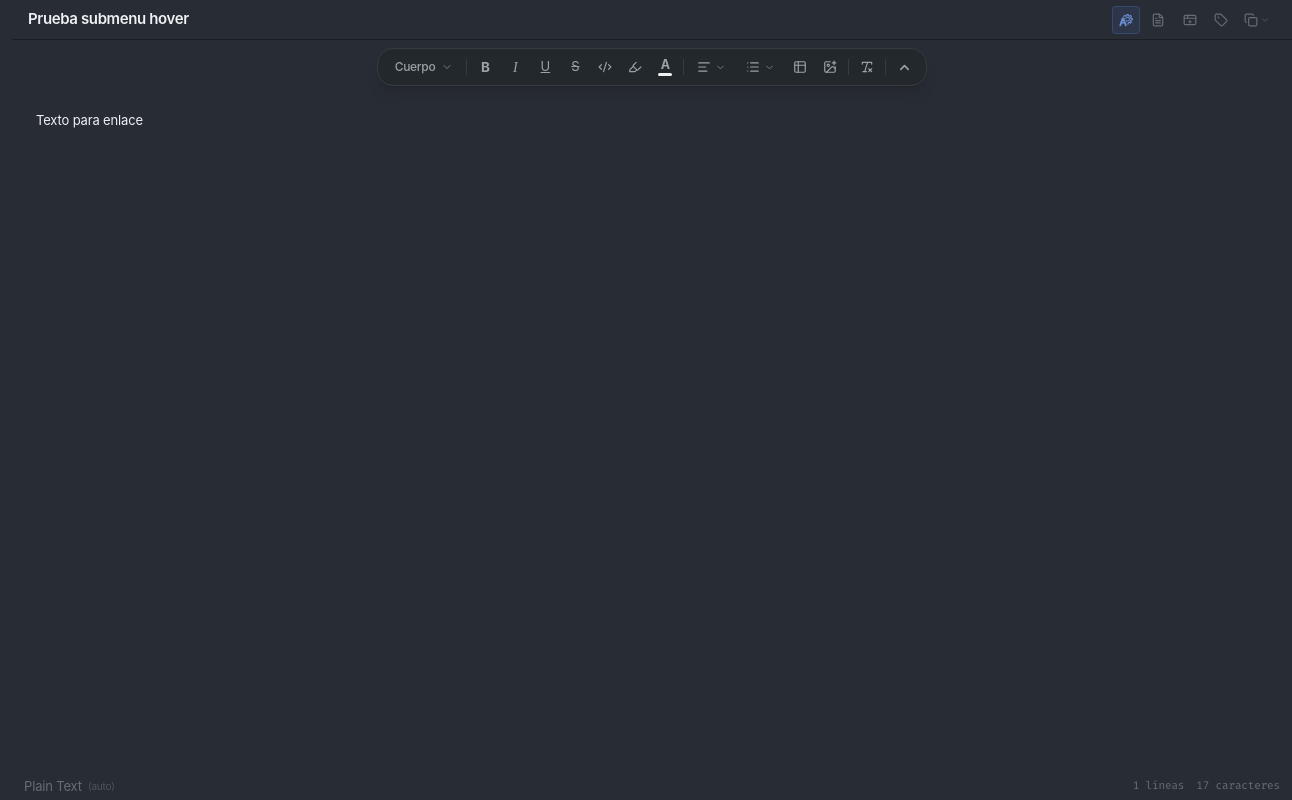
SnippetEditor Dual-Mode (Plain Text Rich Engine & Dynamic Pill Bar) › auto-hides right-click submenus such as Insertar o editar enlace when the mouse leaves
This screenshot has width=1292, height=800.
Select text and right-click
Press a in the field labelled "Texto para enlace", box 36,112 -> 143,128
Right-click the field labelled "Texto para enlace".
right_click(89, 120)  # box 36,112 -> 143,128
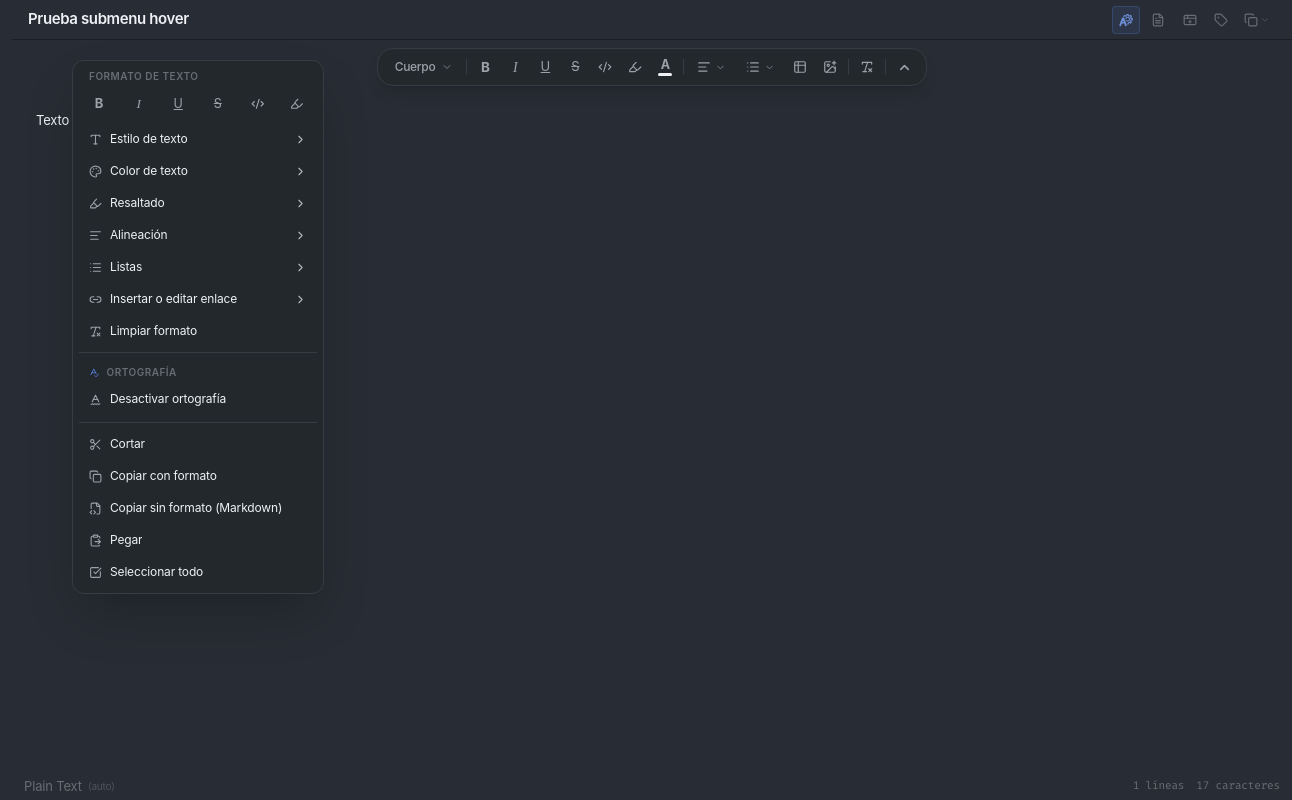
Hovering "Insertar o editar enlace" opens its submenu automatically
Hover over the button with test id "context-submenu-link".
mouse_move(198, 299)  # box 79,284 -> 317,314
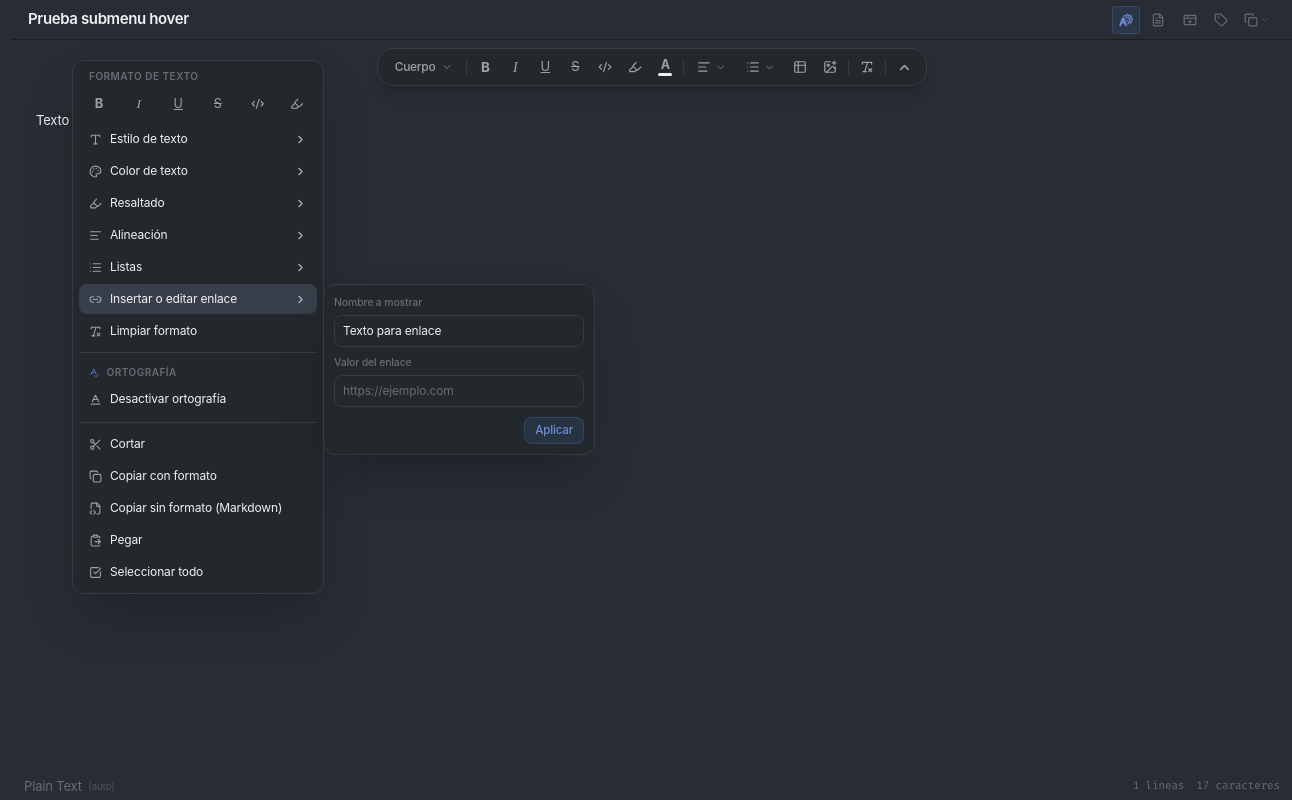
Now the element with test id "context-link-submenu" is shown, box 323,284 -> 595,455
Moving mouse away hides the submenu automatically
Move the pointer off the element that starts with "Insertar o editar enlace", box 79,284 -> 317,314
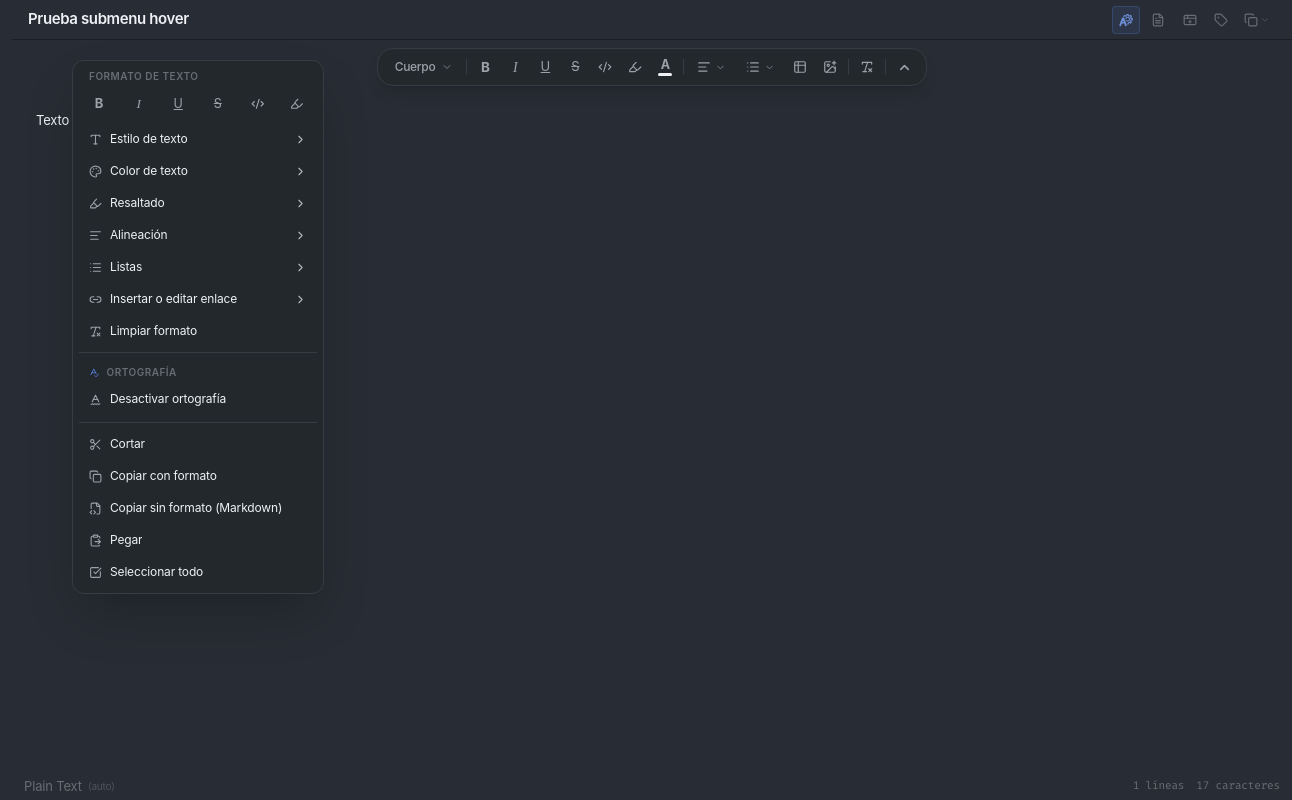
Now the element with test id "context-link-submenu" is gone
Same auto-hide behavior holds for other submenus like Estilos de bloque
Hover over the button with test id "context-submenu-blocks".
mouse_move(198, 139)  # box 79,124 -> 317,154
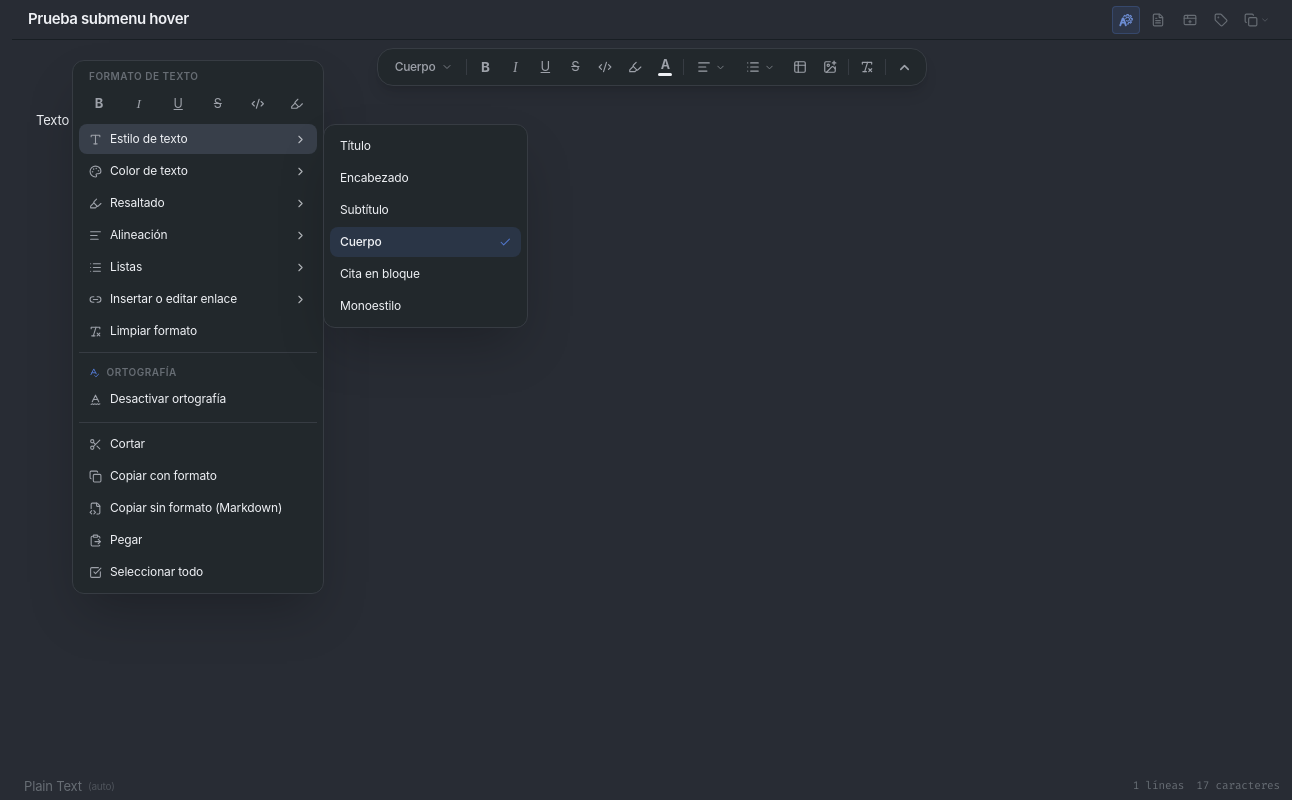
Now the button with test id "context-submenu-blocks" is expanded
Move the pointer off the element that starts with "Estilo de texto", box 79,124 -> 317,154
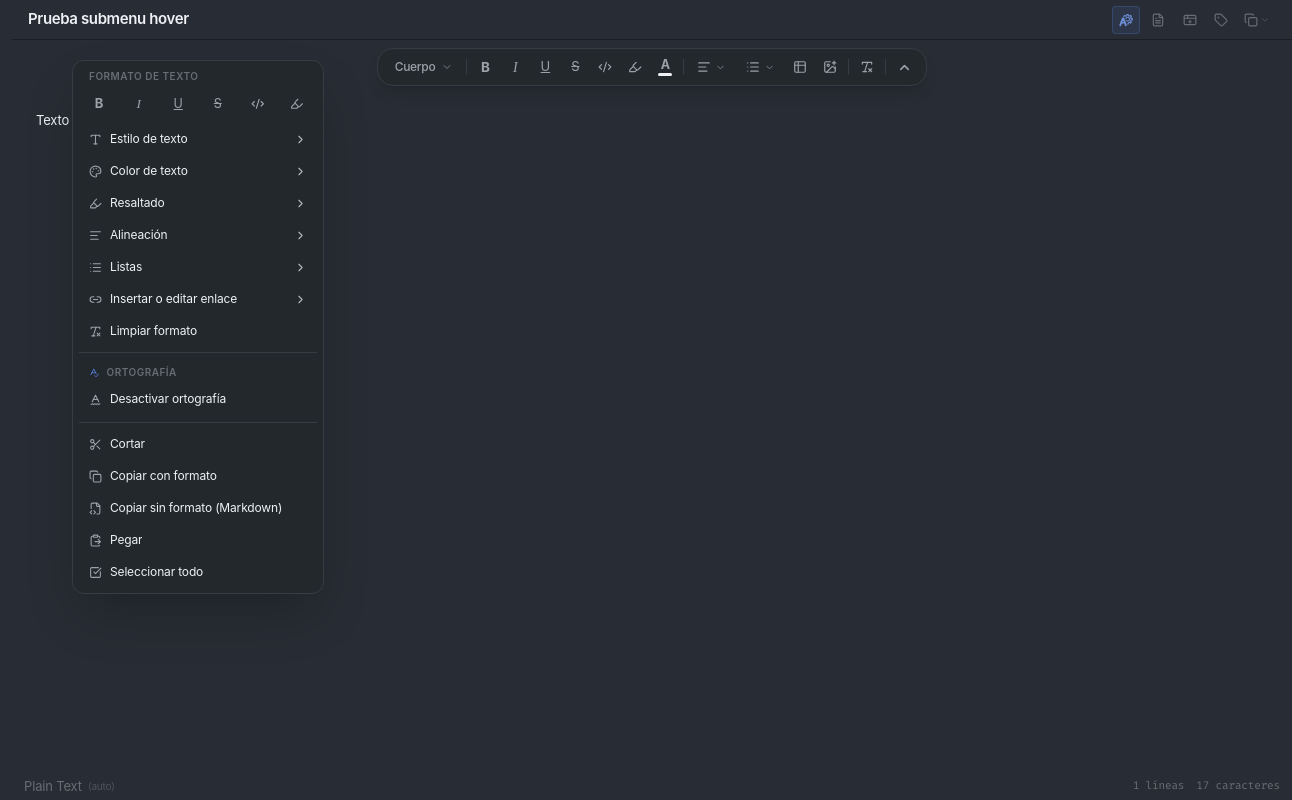
Now the button with test id "context-submenu-blocks" is collapsed, box 79,124 -> 317,154
